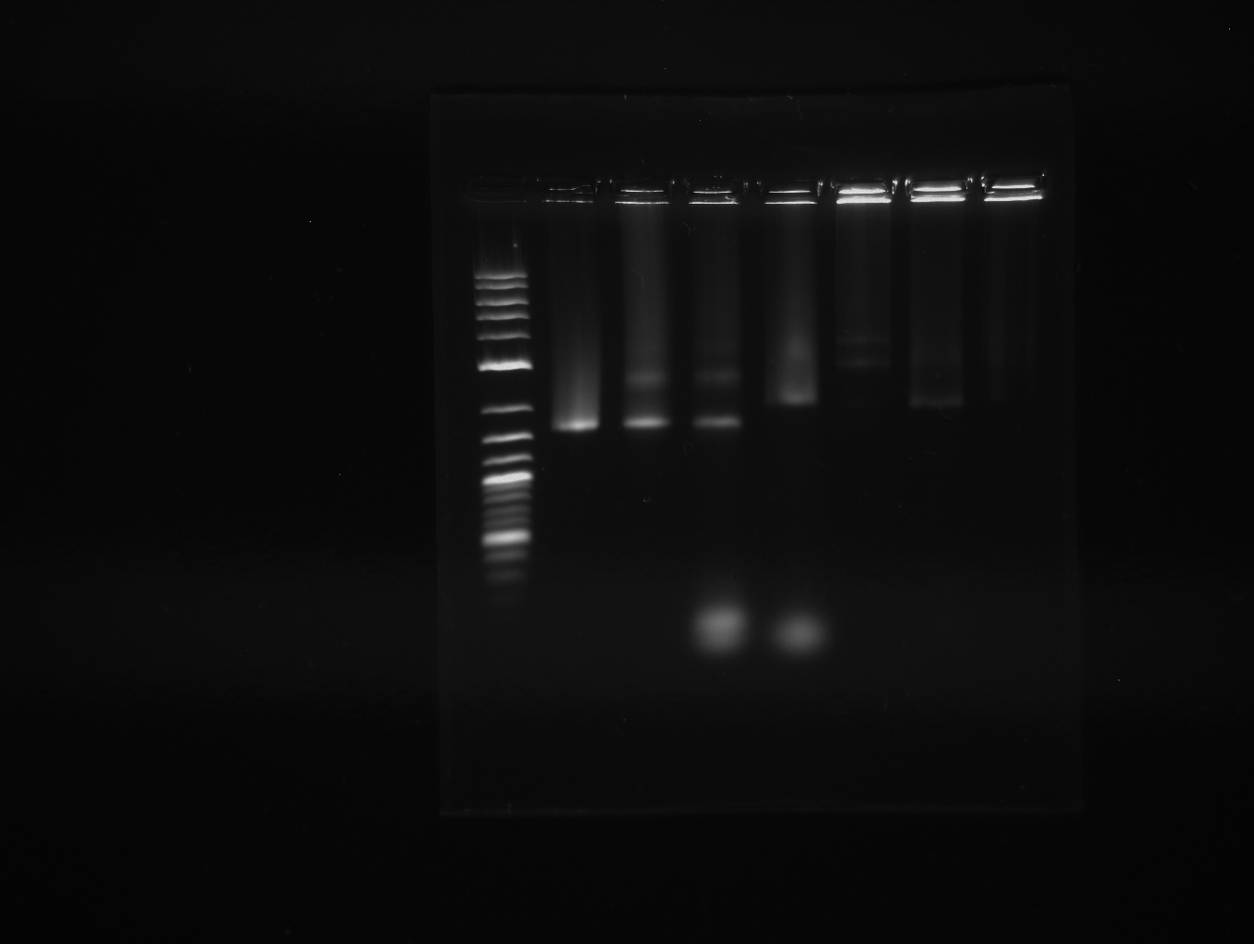Lane: (751, 177, 826, 944), (542, 164, 607, 944), (832, 173, 897, 944), (906, 166, 969, 944), (680, 180, 743, 944), (611, 171, 673, 944), (982, 168, 1043, 944)
ladder: (470, 166, 536, 944)
